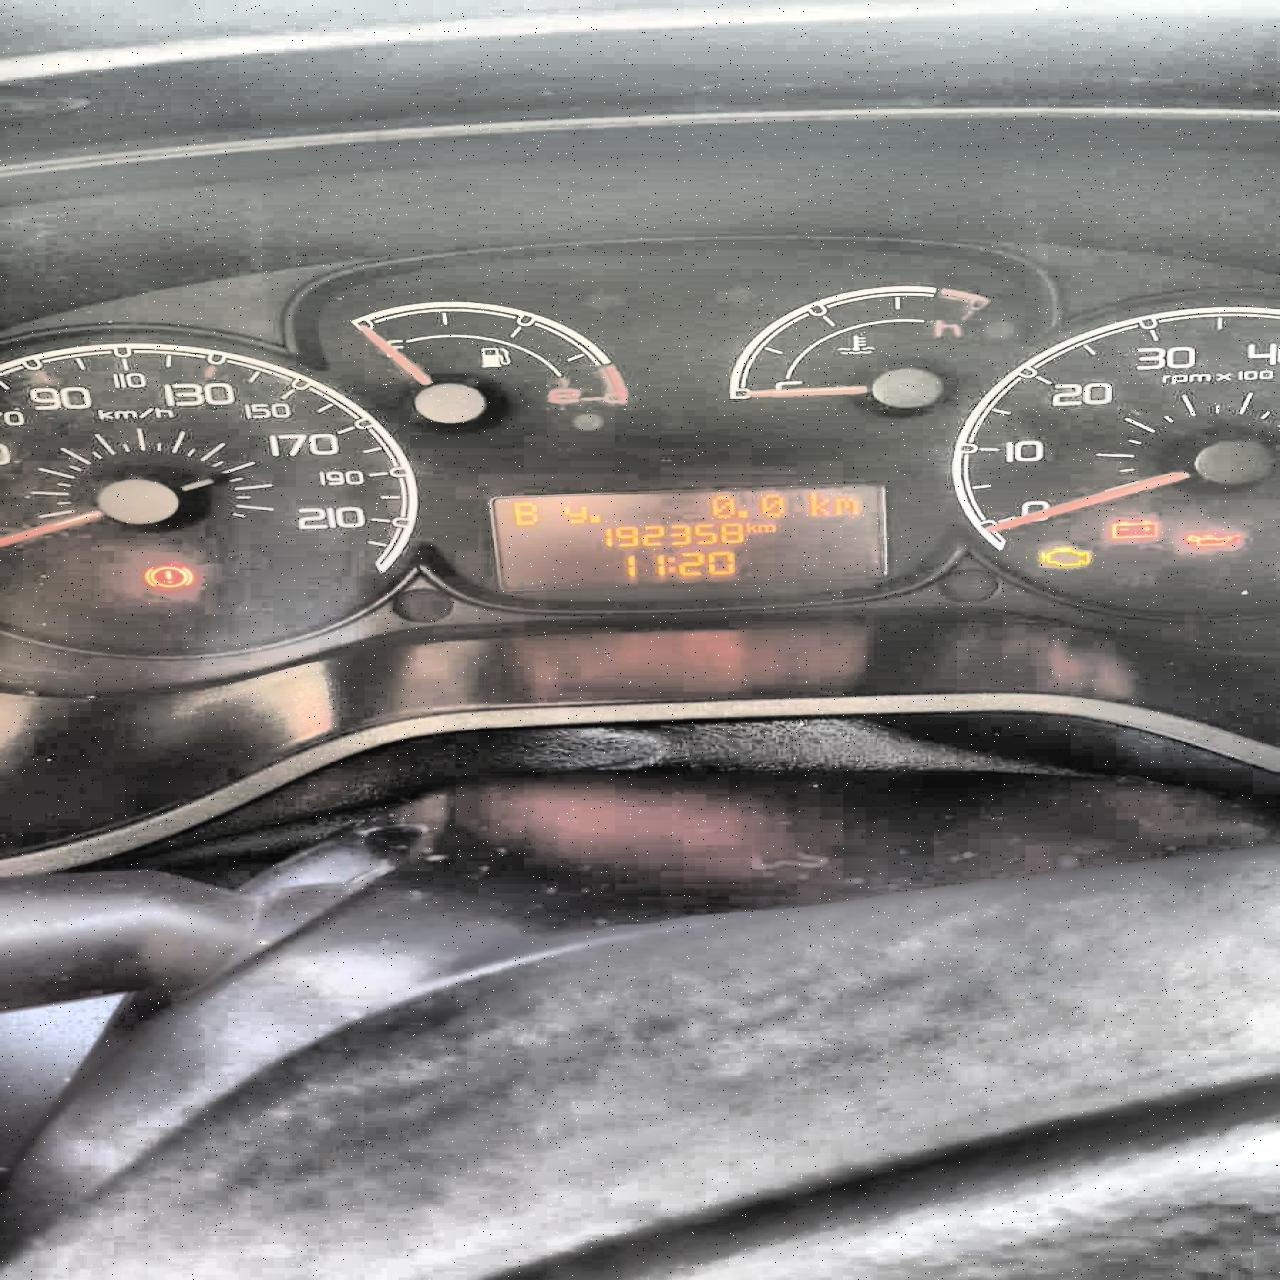-: (585, 512, 602, 525), (735, 508, 748, 518)
0: (756, 491, 787, 518), (704, 550, 736, 576), (706, 493, 733, 519)
1: (619, 552, 641, 578), (646, 552, 665, 577), (598, 526, 612, 547)
2: (676, 550, 704, 577), (639, 523, 665, 547)
3: (665, 523, 692, 546)
5: (692, 523, 716, 545)
8: (719, 520, 743, 544)
9: (614, 524, 638, 547)
X: (509, 499, 539, 526), (802, 491, 831, 517), (832, 495, 862, 516), (558, 504, 585, 525), (756, 523, 775, 535), (665, 556, 675, 572), (743, 520, 756, 533)
odometer: (484, 479, 891, 593)
